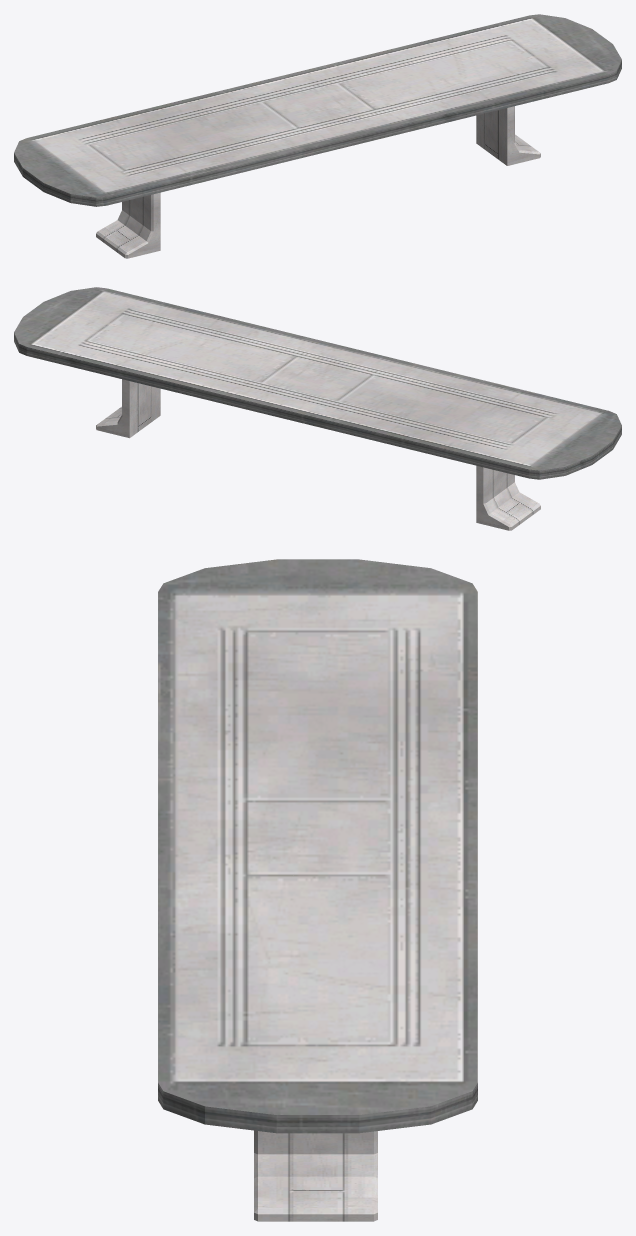
File: frn_all_mdrn_dining_table_s01_l1.fbx
3 views of the same model, one above another, from view 1: azimuth 30°, elevation 25°; view 2: azimuth 150°, elevation 25°; view 3: azimuth 270°, elevation 25° (orthographic). The views are drawn at different scales.
Parts seen in each view (by area): view 1: mesh_node; view 2: mesh_node; view 3: mesh_node.
Boxes of the visible parts, x1,y1,x2,y2 form: mesh_node: [14, 14, 621, 258]; mesh_node: [14, 287, 621, 530]; mesh_node: [158, 559, 477, 1221].
Size of the model in its own units: 6.57 by 1 by 1.6.
1 material, 1 textured.
